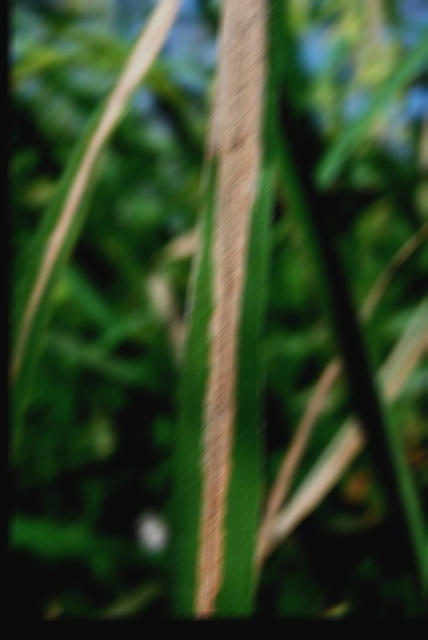Leaf_Blast: (198, 0, 244, 614)
